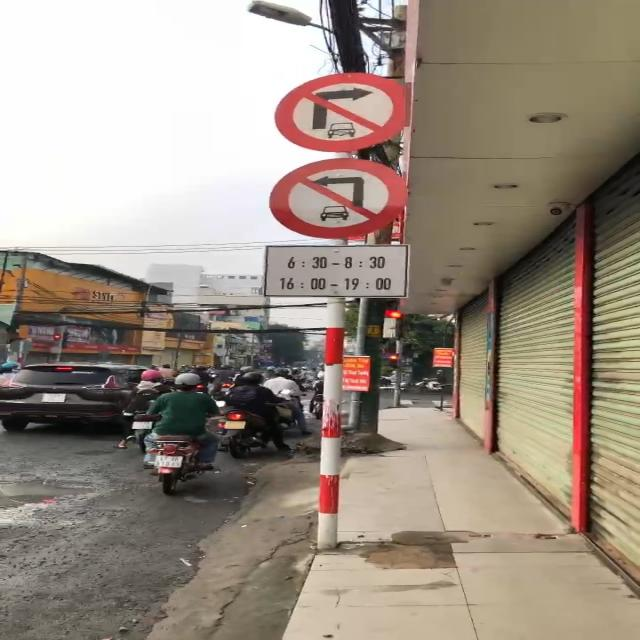Bien bao cam xe o to re phai: (269, 66, 410, 154)
Bien bao cam xe o to re trai: (268, 154, 418, 242)
